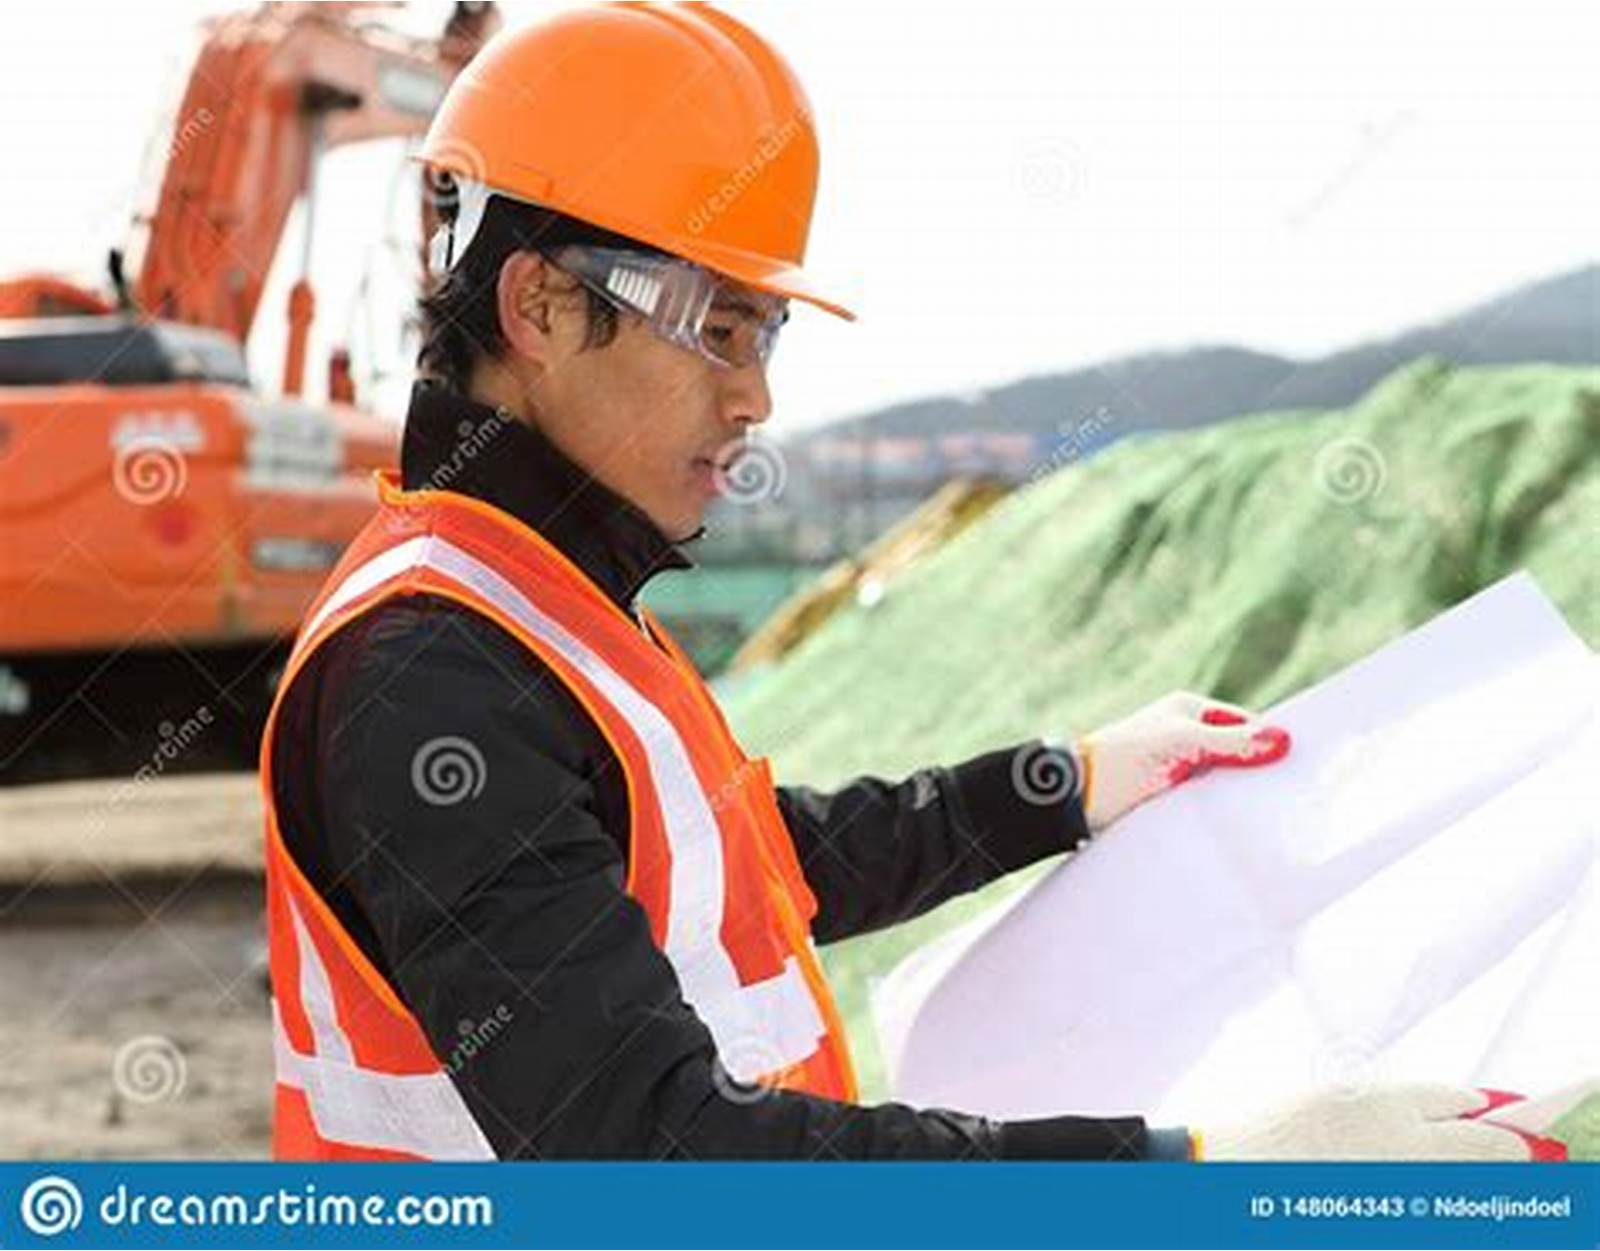safetyhat: (158, 1, 1094, 1156)
